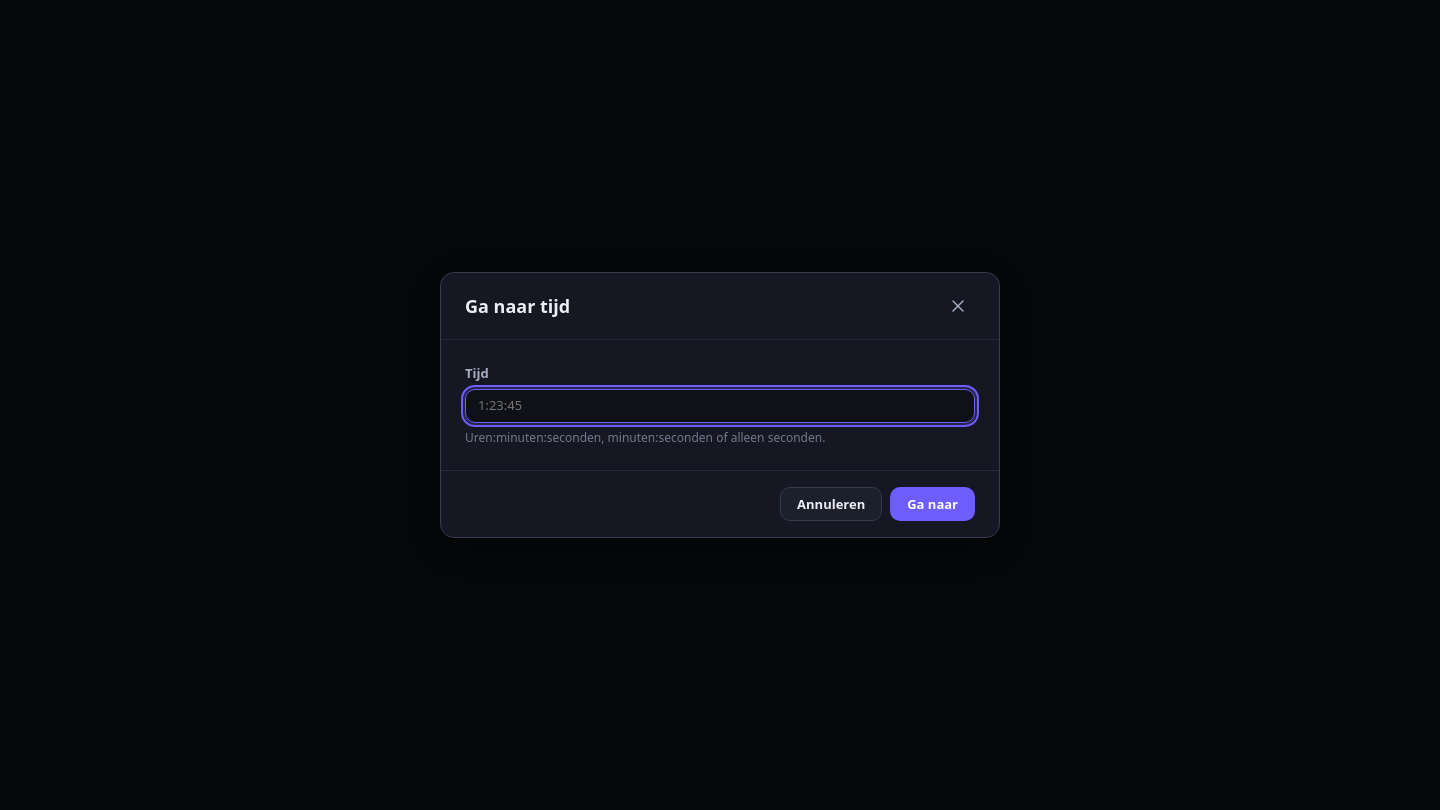
Test case: GoToTimeDialog › weigert ongeldige invoer met een duidelijke melding en een tijd voorbij het einde
Type "abc" into the field labelled "Tijd" at (720, 406), box [465,389,975,423]
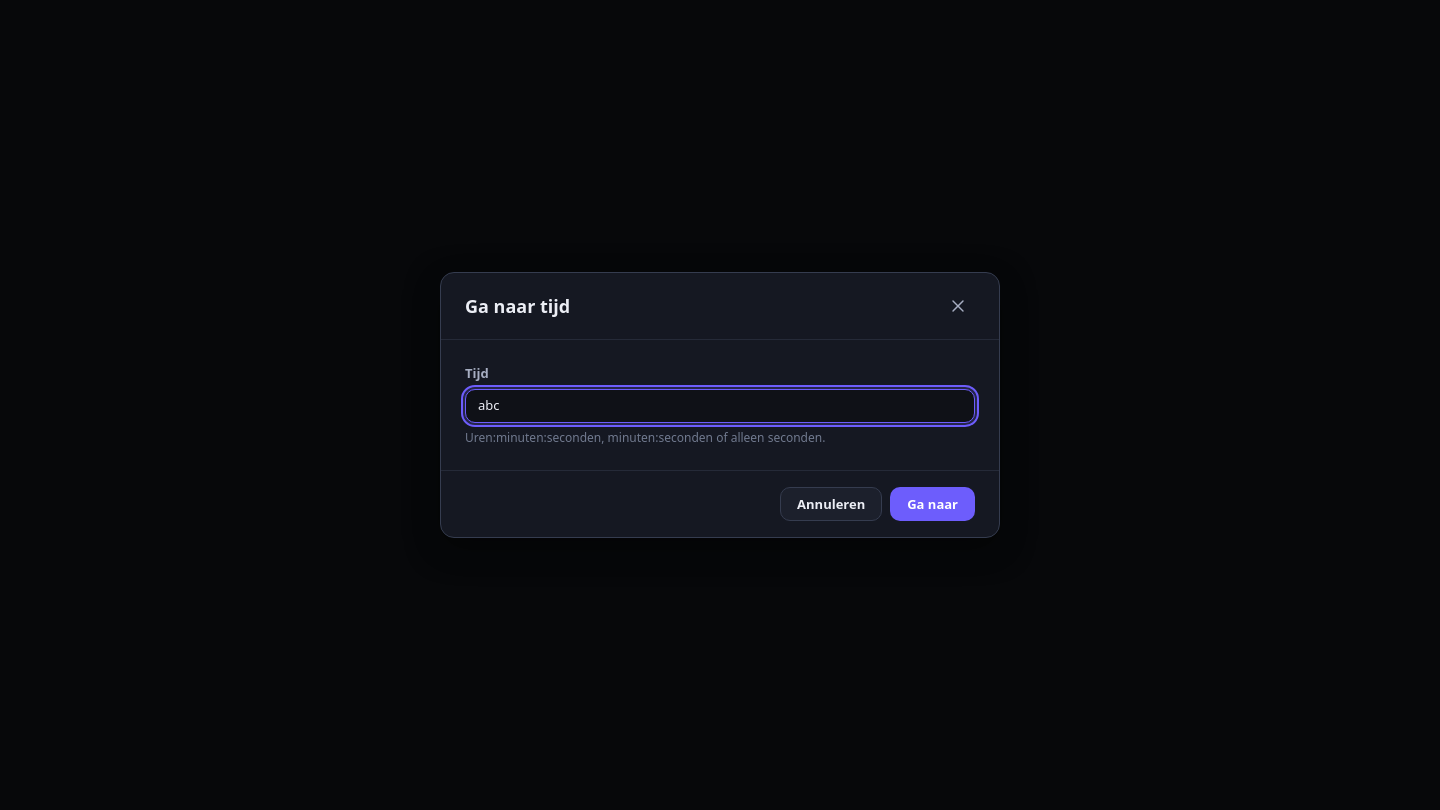
Click the button "Ga naar" at (933, 504), box [890,487,975,521]
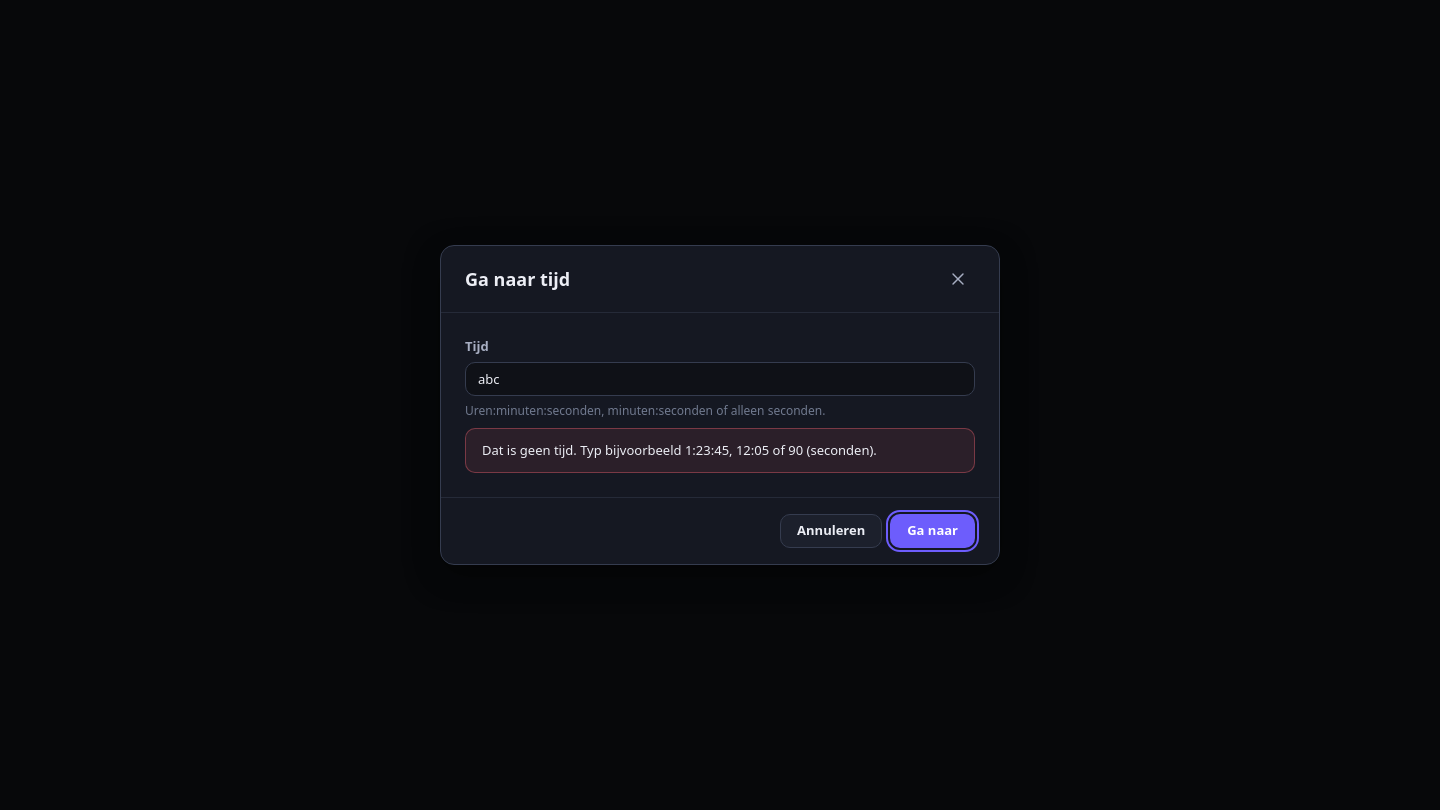
Expected: the message shows "voorbeeld", [482,441,877,459]
Clear the field labelled "Tijd" at (720, 379), box [465,362,975,396]
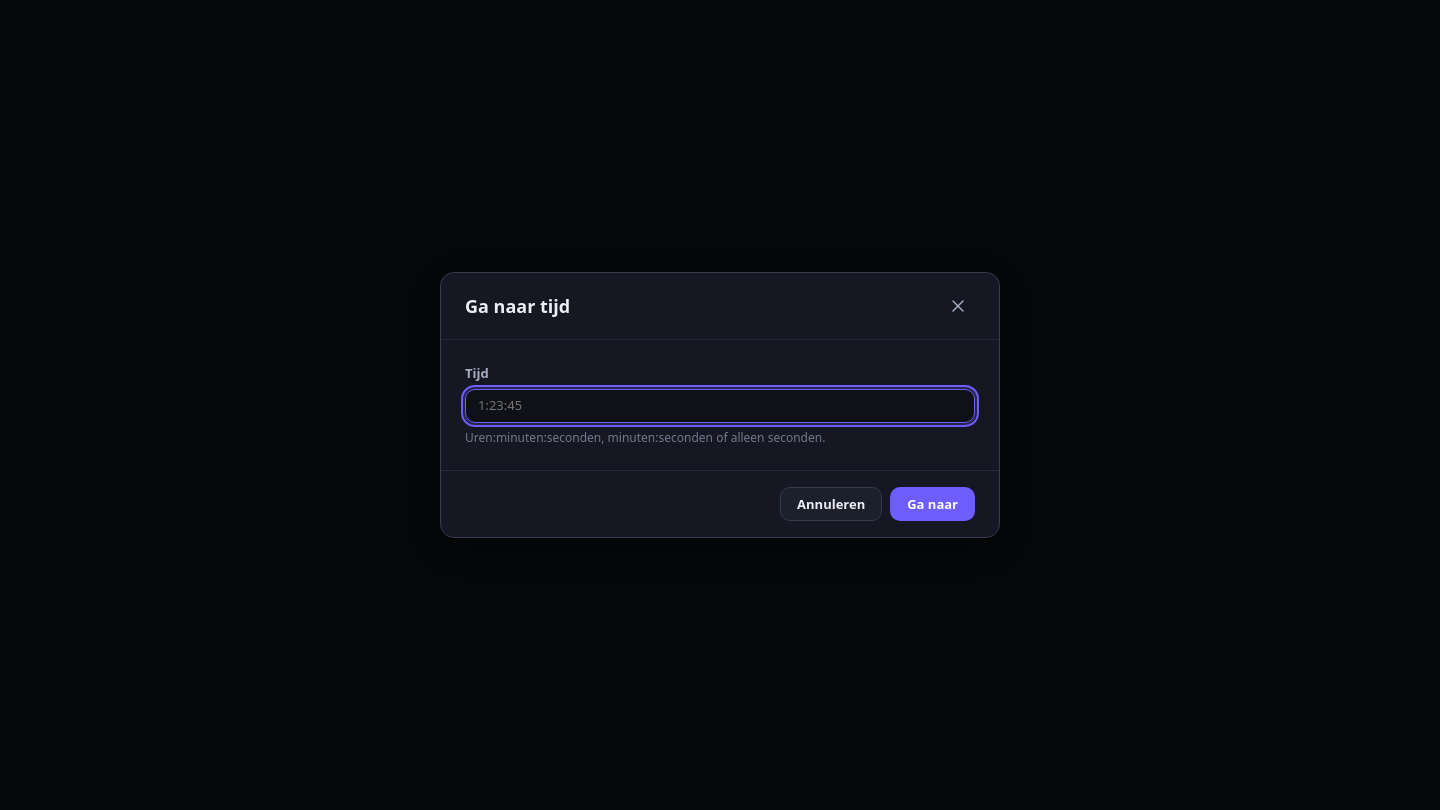
Type "59:00" into the field labelled "Tijd" at (720, 406), box [465,389,975,423]
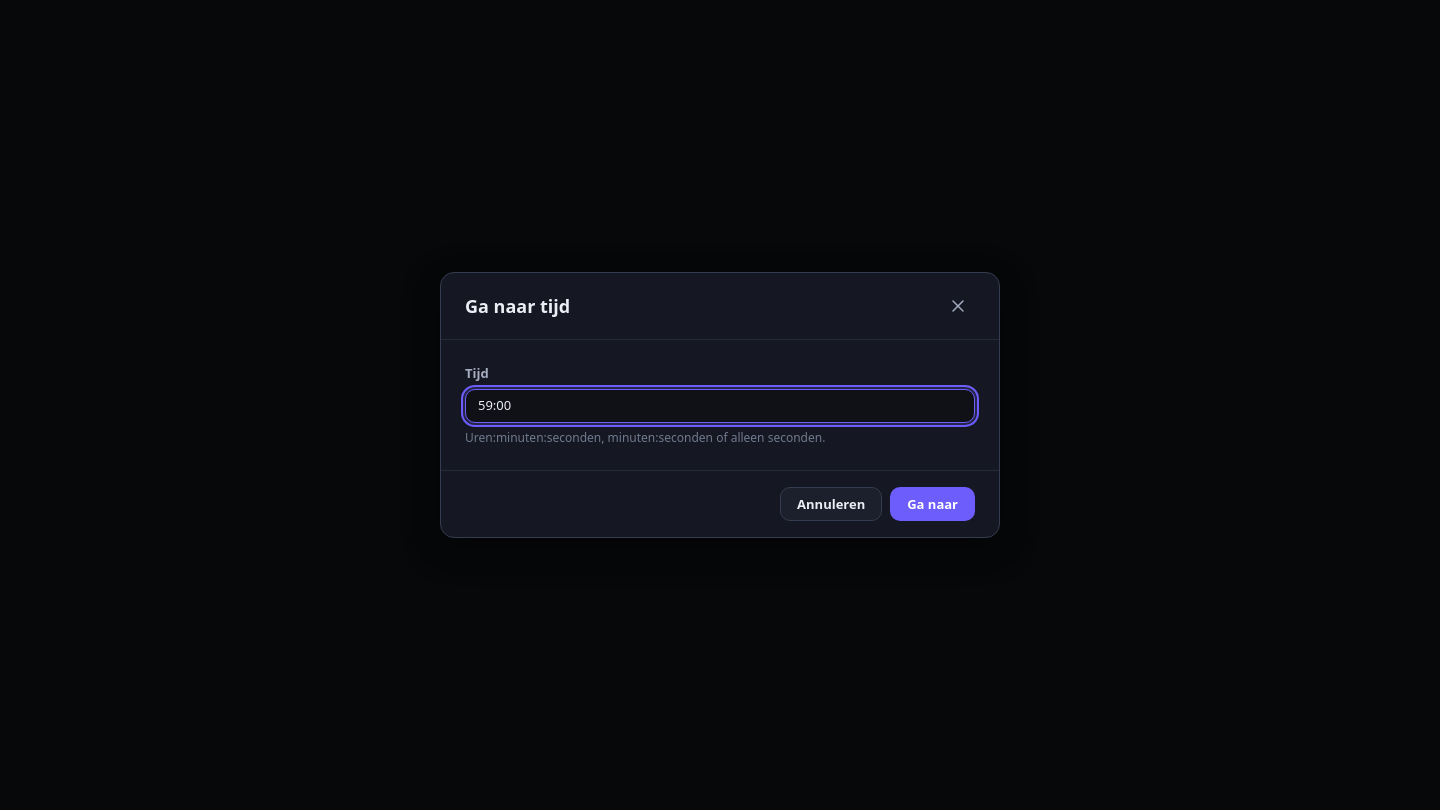
Click the button "Ga naar" at (933, 504), box [890,487,975,521]
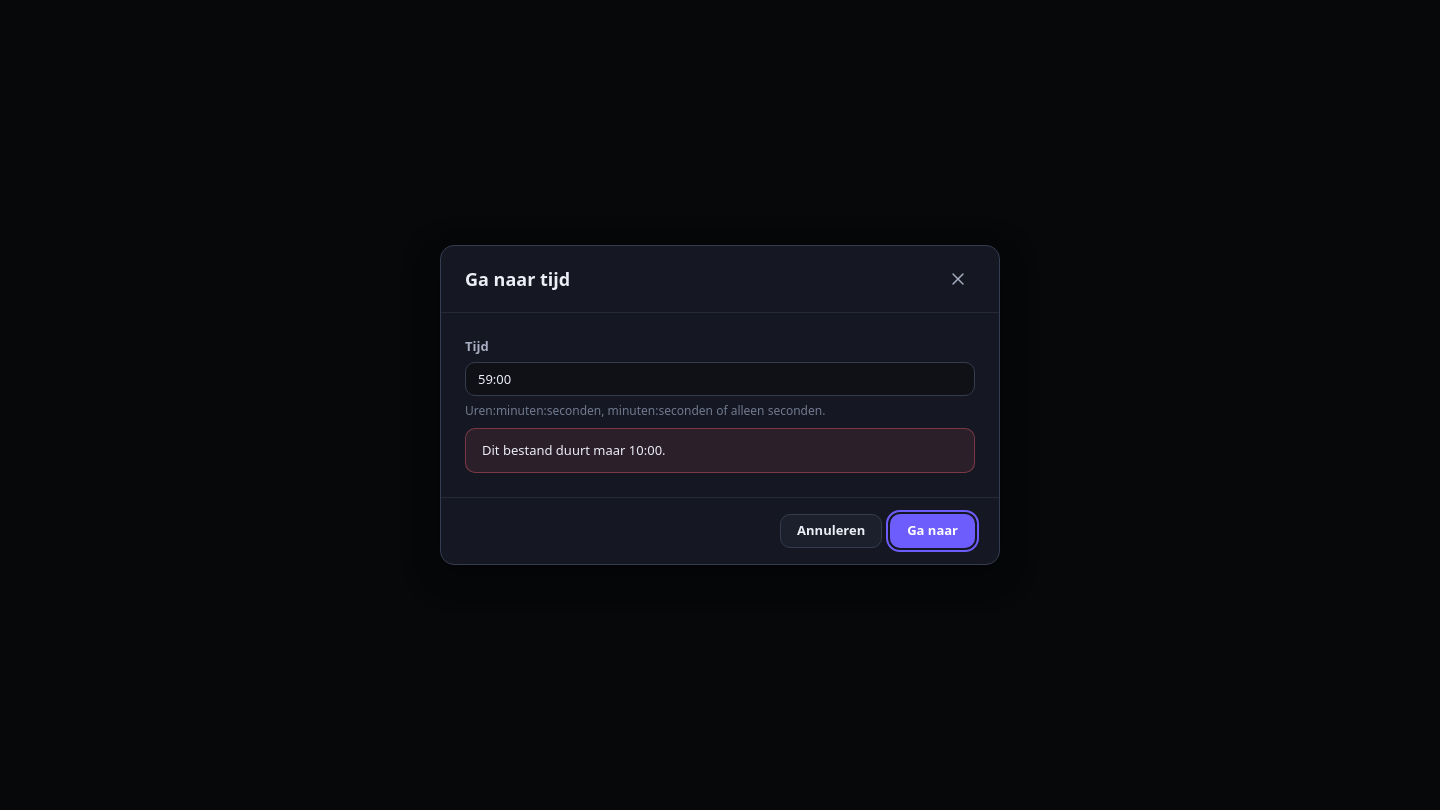
Expected: the message shows "duurt maar", [482,441,666,459]
